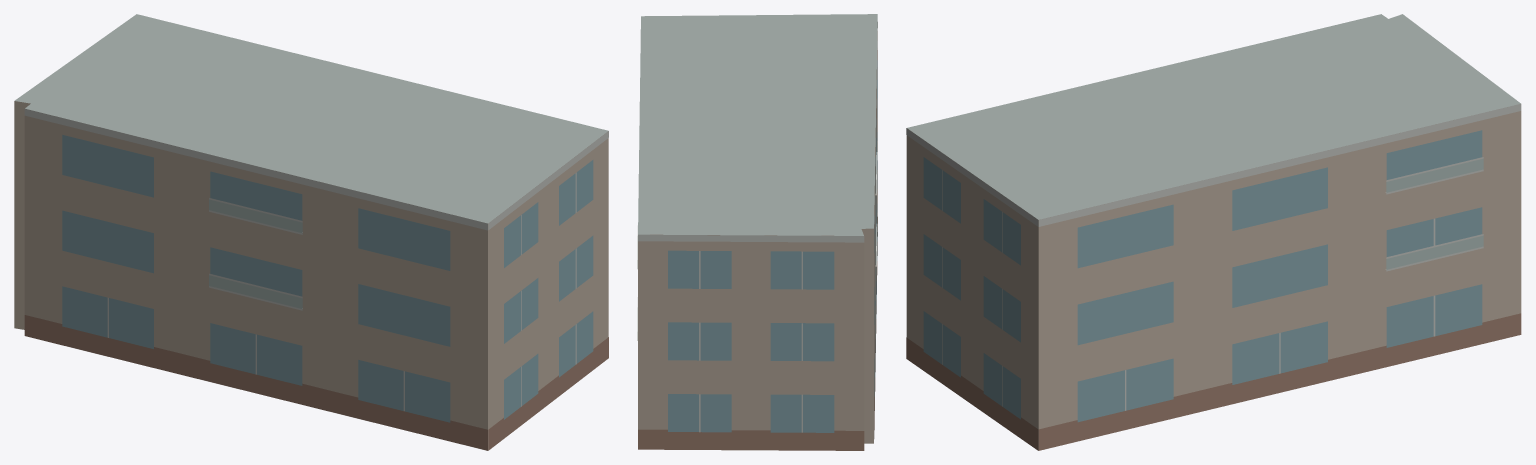
File: survey-upis-32684303.glb
The picture shows the model from 3 angles, left to right: view 1: azimuth 30°, elevation 25°; view 2: azimuth 150°, elevation 25°; view 3: azimuth 270°, elevation 25°; orthographic projection. The views are drawn at different scales.
Visible parts, largest first — view 1: survey-upis-32684303.tmp; view 2: survey-upis-32684303.tmp; view 3: survey-upis-32684303.tmp.
Part boxes in pixels (x1,y1,x2,y2): survey-upis-32684303.tmp: (14, 14, 608, 450); survey-upis-32684303.tmp: (637, 14, 877, 450); survey-upis-32684303.tmp: (906, 14, 1521, 450).
Bounding box in the file's own units: 15.11 × 7.9 × 19.07.
